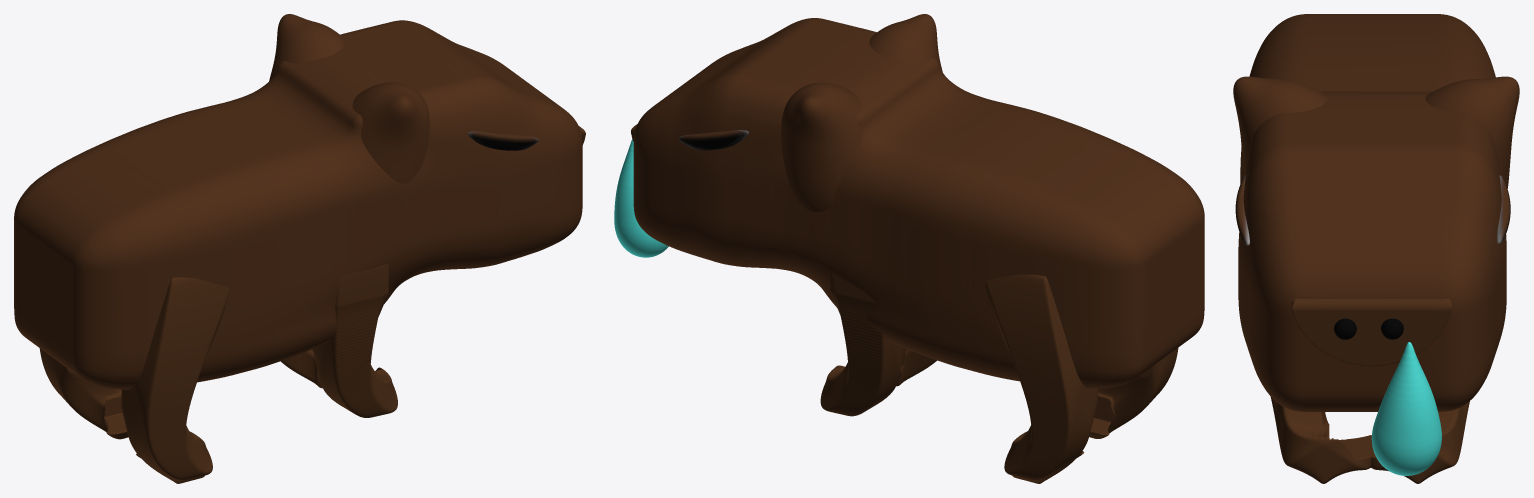
Rendered from capybara-transformed.glb.
3 renders of one model, left to right at view 1: azimuth 30°, elevation 25°; view 2: azimuth 150°, elevation 25°; view 3: azimuth 270°, elevation 25°, orthographic. The views are drawn at different scales.
Parts seen in each view (by area): view 1: model_4, model_0, model_6, model_1; view 2: model_4, model_0, model_6, model_3, model_1; view 3: model_4, model_1, model_6, model_3, model_2.
Part boxes in pixels (x1,y1,x2,y2): model_4: (14,14,582,389); model_0: (39,277,229,483); model_6: (281,264,397,417); model_1: (467,126,585,150); model_4: (633,14,1204,388); model_0: (985,274,1178,483); model_6: (820,273,936,416); model_3: (614,139,668,257); model_1: (631,124,748,150); model_4: (1233,14,1519,411); model_1: (1235,175,1510,366); model_6: (1270,397,1469,483); model_3: (1371,342,1441,475); model_2: (1334,318,1403,339).
Bounding box in the file's own units: 452 × 283 × 180.
6 materials, 5 textured.
